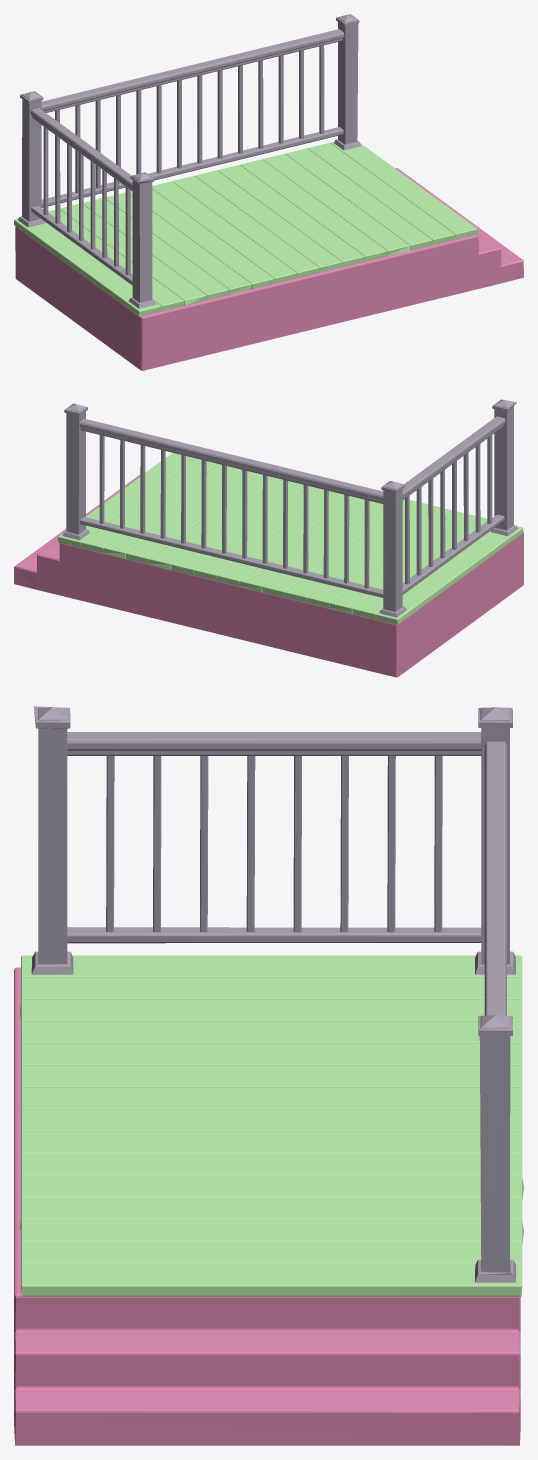
File: SM_House_BackStairs_A2.fbx
3 renders of one model, top to bottom at view 1: azimuth 30°, elevation 25°; view 2: azimuth 150°, elevation 25°; view 3: azimuth 270°, elevation 25°, orthographic. The views are drawn at different scales.
Parts seen in each view (by area): view 1: SM_House_BackStairs_A2; view 2: SM_House_BackStairs_A2; view 3: SM_House_BackStairs_A2.
Boxes of the visible parts, x1=… form: SM_House_BackStairs_A2: x1=14, y1=14, x2=523, y2=370; SM_House_BackStairs_A2: x1=14, y1=399, x2=523, y2=677; SM_House_BackStairs_A2: x1=14, y1=706, x2=523, y2=1445.
Size of the model in its own units: 339 by 196 by 159.
